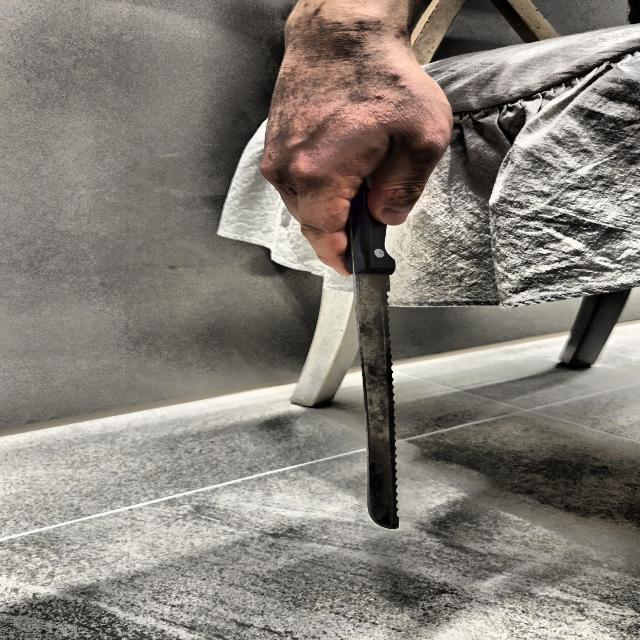knife: (333, 158, 411, 530)
